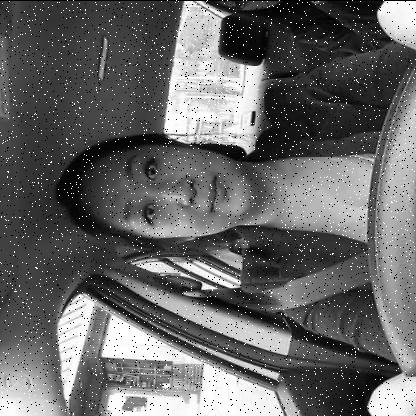seatbelt: (53, 128, 416, 317)
